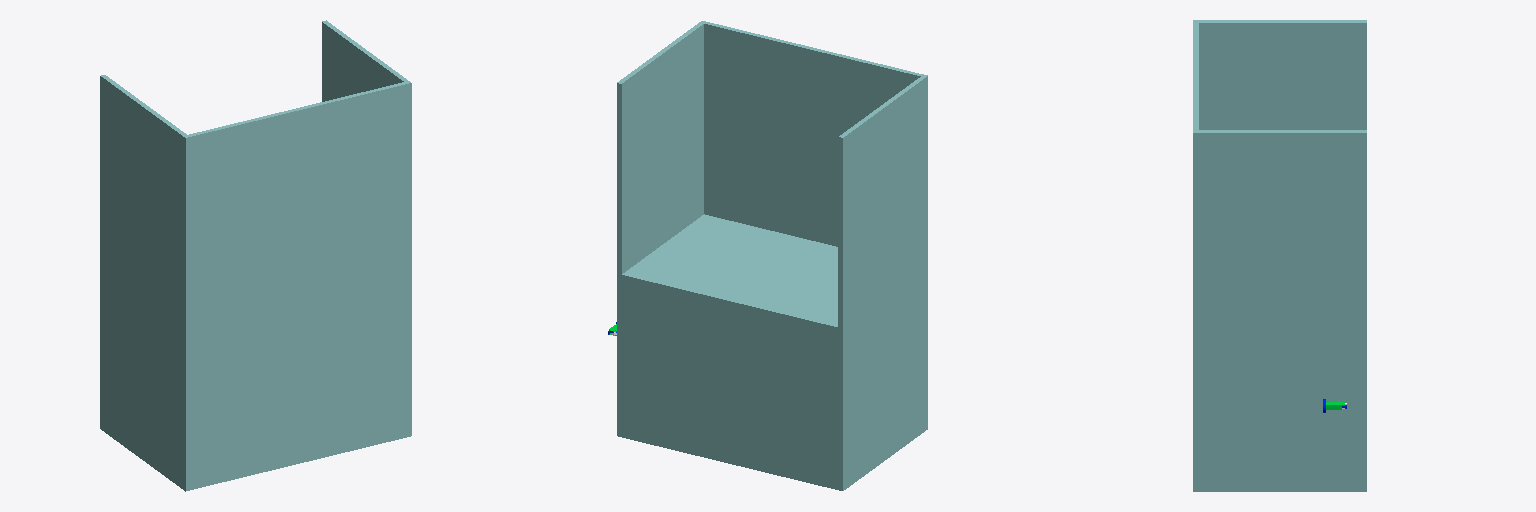
--- What the picture shows (computed from the rendered views, not written in the file) ---
Views: 3 orthographic renders of the robot side by side, from view 1: azimuth 30°, elevation 25°; view 2: azimuth 150°, elevation 25°; view 3: azimuth 270°, elevation 25°.
Robot: ur5e_workcell — 24 links, 23 joints (6 revolute, 17 fixed); root link world; default pose: every joint at zero.
Visible links, largest first — view 1: robotcell_base, shield_rear, shield_left, shield_right; view 2: robotcell_base, shield_rear, shield_left, shield_right; view 3: shield_right, robotcell_base, shield_left, shield_rear.
Link boxes in pixels (x1,y1,x2,y2): robotcell_base: [100, 267, 411, 491]; shield_rear: [183, 81, 411, 328]; shield_left: [100, 75, 189, 327]; shield_right: [322, 20, 411, 253]; robotcell_base: [617, 214, 927, 490]; shield_rear: [700, 21, 927, 267]; shield_left: [838, 75, 927, 328]; shield_right: [617, 21, 705, 274]; shield_right: [1193, 130, 1366, 325]; robotcell_base: [1193, 326, 1366, 491]; shield_left: [1193, 20, 1366, 129]; shield_rear: [1193, 20, 1198, 325].
Size in the robot's own frame: 1.57 by 0.94 by 2.15 metres.
3 mesh visuals loaded from 10 distinct referenced files (3 binary STL); not drawn: 7 (reference not matched to a file when rendering).

URDF robot description (ur5e_workcell):
<?xml version="1.0" ?>
<!-- =================================================================================== -->
<!-- |    This document was autogenerated by xacro from workcell.urdf.xacro            | -->
<!-- |    EDITING THIS FILE BY HAND IS NOT RECOMMENDED                                 | -->
<!-- =================================================================================== -->
<robot name="ur5e_workcell">
  <!-- Specify some standard inertial calculations https://en.wikipedia.org/wiki/List_of_moments_of_inertia -->
  <!-- These make use of xacro's mathematical functionality -->
  <material name="gray">
    <color rgba="0.6 0.8 0.8 1"/>
  </material>
  <link name="robotcell_link">
    <origin rpy="0 0 0" xyz="0 0 0"/>
  </link>
  <link name="shield_front">
    <collision>
      <origin rpy="0 0 0" xyz="0 0 0"/>
      <geometry>
        <box size="1.44 0.03 1.16"/>
      </geometry>
      <material name="gray"/>
    </collision>
    <inertial>
      <origin rpy="0 0 0" xyz="0 0 0"/>
      <mass value="5"/>
      <inertia ixx="0.5610416666666665" ixy="0.0" ixz="0.0" iyy="1.4246666666666665" iyz="0.0" izz="0.8643749999999999"/>
    </inertial>
  </link>
  <link name="shield_rear">
    <visual>
      <origin rpy="0 0 0" xyz="0 0 0"/>
      <geometry>
        <box size="1.44 0.03 1.16"/>
      </geometry>
      <material name="gray"/>
    </visual>
    <collision>
      <origin rpy="0 0 0 " xyz="0 0 0"/>
      <geometry>
        <box size="1.44 0.03 1.16"/>
      </geometry>
      <material name="gray"/>
    </collision>
    <inertial>
      <origin rpy="0 0 0" xyz="0 0 0"/>
      <mass value="5"/>
      <inertia ixx="0.5610416666666665" ixy="0.0" ixz="0.0" iyy="1.4246666666666665" iyz="0.0" izz="0.8643749999999999"/>
    </inertial>
  </link>
  <link name="shield_left">
    <visual>
      <origin rpy="0 0 0" xyz="0 0 0"/>
      <geometry>
        <box size="0.03 0.94 1.16"/>
      </geometry>
      <material name="gray"/>
    </visual>
    <collision>
      <origin rpy="0 0 0" xyz="0 0 0"/>
      <geometry>
        <box size="0.03 0.94 1.16"/>
      </geometry>
      <material name="gray"/>
    </collision>
    <inertial>
      <origin rpy="0 0 0" xyz="0 0 0"/>
      <mass value="5"/>
      <inertia ixx="0.9288333333333331" ixy="0.0" ixz="0.0" iyy="0.5610416666666665" iyz="0.0" izz="0.3685416666666666"/>
    </inertial>
  </link>
  <link name="shield_right">
    <visual>
      <origin rpy="0 0 0" xyz="0 0 0"/>
      <geometry>
        <box size="0.03 0.94 1.16"/>
      </geometry>
      <material name="gray"/>
    </visual>
    <collision>
      <origin rpy="0 0 0" xyz="0 0 0"/>
      <geometry>
        <box size="0.03 0.94 1.16"/>
      </geometry>
      <material name="gray"/>
    </collision>
    <inertial>
      <origin rpy="0 0 0" xyz="0 0 0"/>
      <mass value="5"/>
      <inertia ixx="0.9288333333333331" ixy="0.0" ixz="0.0" iyy="0.5610416666666665" iyz="0.0" izz="0.3685416666666666"/>
    </inertial>
  </link>
  <link name="robotcell_base">
    <visual>
      <origin rpy="0 0 0" xyz="0 0 0.495"/>
      <geometry>
        <box size="1.44 0.94 0.99"/>
      </geometry>
      <material name="gray"/>
    </visual>
    <collision>
      <origin rpy="0 0 0" xyz="0 0 0.495"/>
      <geometry>
        <box size="1.44 0.94 0.99"/>
      </geometry>
      <material name="gray"/>
    </collision>
    <inertial>
      <origin rpy="0 0 0" xyz="0 0 0"/>
      <mass value="70"/>
      <inertia ixx="10.871583333333332" ixy="0.0" ixz="0.0" iyy="17.81325" iyz="0.0" izz="17.25033333333333"/>
    </inertial>
  </link>
  <joint name="robotcell_joint_to_front" type="fixed">
    <parent link="robotcell_link"/>
    <child link="shield_front"/>
    <origin rpy="0 0 0" xyz="0 0.45499999999999996 1.5699999999999998"/>
  </joint>
  <joint name="robotcell_joint_to_rear" type="fixed">
    <parent link="robotcell_link"/>
    <child link="shield_rear"/>
    <origin rpy="0 0 0" xyz="0 -0.45499999999999996 1.5699999999999998"/>
  </joint>
  <joint name="robotcell_joint_to_left" type="fixed">
    <parent link="robotcell_link"/>
    <child link="shield_left"/>
    <origin rpy="0 0 0" xyz="-0.705 0 1.5699999999999998"/>
  </joint>
  <joint name="robotcell_joint_to_right" type="fixed">
    <parent link="robotcell_link"/>
    <child link="shield_right"/>
    <origin rpy="0 0 0" xyz="0.705 0 1.5699999999999998"/>
  </joint>
  <joint name="robotcell_joint_to_robotcell_base" type="fixed">
    <parent link="robotcell_link"/>
    <child link="robotcell_base"/>
    <origin rpy="0 0 0" xyz="0 0 0"/>
  </joint>
  <!--
    Base UR robot series xacro macro.

    NOTE this is NOT a URDF. It cannot directly be loaded by consumers
    expecting a flattened '.urdf' file. See the top-level '.xacro' for that
    (but note that .xacro must still be processed by the xacro command).

    This file models the base kinematic chain of a UR robot, which then gets
    parameterised by various configuration files to convert it into a UR3(e),
    UR5(e), UR10(e) or UR16e.

    NOTE the default kinematic parameters (i.e., link lengths, frame locations,
    offsets, etc) do not correspond to any particular robot. They are defaults
    only. There WILL be non-zero offsets between the Forward Kinematics results
    in TF (i.e., robot_state_publisher) and the values reported by the Teach
    Pendant.

    For accurate (and robot-specific) transforms, the 'kinematics_parameters_file'
    parameter MUST point to a .yaml file containing the appropriate values for
    the targeted robot.

    If using the UniversalRobots/Universal_Robots_ROS_Driver, follow the steps
    described in the readme of that repository to extract the kinematic
    calibration from the controller and generate the required .yaml file.

    Main author of the migration to yaml configs Ludovic Delval.

    Contributors to previous versions (in no particular order)

     - Denis Stogl
     - Lovro Ivanov
     - Felix Messmer
     - Kelsey Hawkins
     - Wim Meeussen
     - Shaun Edwards
     - Nadia Hammoudeh Garcia
     - Dave Hershberger
     - G. vd. Hoorn
     - Philip Long
     - Dave Coleman
     - Miguel Prada
     - Mathias Luedtke
     - Marcel Schnirring
     - Felix von Drigalski
     - Felix Exner
     - Jimmy Da Silva
     - Ajit Krisshna N L
     - Muhammad Asif Rana
  -->
  <!--
    NOTE the macro defined in this file is NOT part of the public API of this
          package. Users CANNOT rely on this file being available, or stored in
          this location. Nor can they rely on the existence of the macro.
  -->
  <!-- Specify some standard inertial calculations https://en.wikipedia.org/wiki/List_of_moments_of_inertia -->
  <!-- These make use of xacro's mathematical functionality -->
  <material name="blue">
    <color rgba="0 0.2 1 1"/>
  </material>
  <material name="green">
    <color rgba="0 0.9 0.3 1"/>
  </material>
  <material name="white">
    <color rgba="1 1 1 1"/>
  </material>
  <!--Base plate-->
  <link name="shunk_egp50_base_link">
    <visual>
      <geometry>
        <cylinder length="0.015" radius="0.0375"/>
      </geometry>
      <material name="blue"/>
      <origin rpy="0 0 0" xyz="0 0 0.0075"/>
    </visual>
    <collision>
      <geometry>
        <cylinder length="0.015" radius="0.0375"/>
      </geometry>
      <origin rpy="0 0 0" xyz="0 0 0.0075"/>
    </collision>
    <inertial>
      <origin rpy="0 0 0" xyz="0 0 0.0075"/>
      <mass value="0.2"/>
      <inertia ixx="7.406249999999999e-05" ixy="0.0" ixz="0.0" iyy="7.406249999999999e-05" iyz="0.0" izz="0.000140625"/>
    </inertial>
  </link>
  <!--Main gripper-->
  <link name="shunk_egp50_body_link">
    <visual>
      <geometry>
        <mesh filename="package://workcell_description/meshes/Gripper.stl" scale="0.001 0.001 0.001"/>
      </geometry>
      <origin rpy="1.5707963267948966 0 0" xyz="-0.025 0.015 -0.0433"/>
      <material name="green"/>
    </visual>
    <collision>
      <geometry>
        <mesh filename="package://workcell_description/meshes/Gripper.stl" scale="0.001 0.001 0.001"/>
      </geometry>
      <origin rpy="1.5707963267948966 0 0" xyz="-0.025 0.015 -0.0433"/>
    </collision>
    <inertial>
      <origin rpy="1.5707963267948966 0 0" xyz="-0.025 0.015 -0.0433"/>
      <mass value="0.5"/>
      <inertia ixx="0.00034998166666666666" ixy="0.0" ixz="0.0" iyy="0.00041664833333333336" iyz="0.0" izz="0.00014166666666666668"/>
    </inertial>
  </link>
  <!--Pincer block 1-->
  <link name="shunk_egp50_pincer_1_link">
    <visual>
      <geometry>
        <mesh filename="package://workcell_description/meshes/Pincer_1.stl" scale="0.001 0.001 0.001"/>
      </geometry>
      <origin rpy="1.5707963267948966 0 0" xyz="-0.025 0.009 -0.0936"/>
      <material name="white"/>
    </visual>
    <collision>
      <geometry>
        <mesh filename="package://workcell_description/meshes/Pincer_1.stl" scale="0.001 0.001 0.001"/>
      </geometry>
      <origin rpy="1.5707963267948966 0 0" xyz="-0.025 0.009 -0.0936"/>
    </collision>
    <inertial>
      <origin rpy="1.5707963267948966 0 0" xyz="-0.025 0.009 -0.0936"/>
      <mass value="0.1"/>
      <inertia ixx="4.333333333333333e-06" ixy="0.0" ixz="0.0" iyy="2.246666666666667e-05" iyz="0.0" izz="2.3533333333333337e-05"/>
    </inertial>
  </link>
  <!--Pincer block 2-->
  <link name="shunk_egp50_pincer_2_link">
    <visual>
      <geometry>
        <mesh filename="package://workcell_description/meshes/Pincer_2.stl" scale="0.001 0.001 0.001"/>
      </geometry>
      <origin rpy="1.5707963267948966 0 0" xyz="-0.025 0.009 -0.0936"/>
      <material name="blue"/>
    </visual>
    <collision>
      <geometry>
        <mesh filename="package://workcell_description/meshes/Pincer_2.stl" scale="0.001 0.001 0.001"/>
      </geometry>
      <origin rpy="1.5707963267948966 0 0" xyz="-0.025 0.009 -0.0936"/>
    </collision>
    <inertial>
      <origin rpy="1.5707963267948966 0 0" xyz="-0.025 0.009 -0.0936"/>
      <mass value="0.1"/>
      <inertia ixx="4.333333333333333e-06" ixy="0.0" ixz="0.0" iyy="2.246666666666667e-05" iyz="0.0" izz="2.3533333333333337e-05"/>
    </inertial>
  </link>
  <!-- Virtual link for visualizytion and planning-->
  <link name="tool_tip"/>
  <!-- Joints-->
  <joint name="shunk_egp50_body_joint" type="fixed">
    <parent link="shunk_egp50_base_link"/>
    <child link="shunk_egp50_body_link"/>
    <origin rpy="0.0 0.0 0.0" xyz="0.0 0.0 0.0583"/>
  </joint>
  <joint name="shunk_egp50_pincer_1_joint" type="fixed">
    <parent link="shunk_egp50_body_link"/>
    <child link="shunk_egp50_pincer_1_link"/>
    <origin rpy="0.0 0.0 0.0" xyz="0.0 0.0 0.0503"/>
    <!-- the motion of the pincer is along the X axis -->
    <axis xyz="1 0 0"/>
    <!-- the motion of the pincer is limited to the half of the gripper body length -->
    <limit effort="100" lower="-0.003125" upper="0.003125" velocity="100"/>
  </joint>
  <joint name="shunk_egp50_pincer_2_joint" type="fixed">
    <parent link="shunk_egp50_body_link"/>
    <child link="shunk_egp50_pincer_2_link"/>
    <origin rpy="0.0 0.0 0.0" xyz="0.0 0.002 0.0503"/>
    <!-- the motion of the pincer is along the X axis -->
    <axis xyz="1 0 0"/>
    <!-- the motion of the pincer is limited to the half of the gripper body length -->
    <limit effort="100" lower="0.003125" upper="-0.003125" velocity="100"/>
  </joint>
  <joint name="shunk_egp50_tip_joint" type="fixed">
    <parent link="shunk_egp50_base_link"/>
    <child link="tool_tip"/>
    <origin rpy="0.0 0.0 0.0" xyz="0 0 0.01044"/>
  </joint>
  <ros2_control name="ur5e" type="system">
    <hardware>
      <plugin>ur_robot_driver/URPositionHardwareInterface</plugin>
      <param name="robot_ip">0.0.0.0</param>
      <param name="script_filename"></param>
      <param name="output_recipe_filename"></param>
      <param name="input_recipe_filename"></param>
      <param name="headless_mode">False</param>
      <param name="reverse_port">50001</param>
      <param name="script_sender_port">50002</param>
      <param name="tf_prefix">&quot;&quot;</param>
      <param name="non_blocking_read">0</param>
      <param name="servoj_gain">2000</param>
      <param name="servoj_lookahead_time">0.03</param>
      <param name="use_tool_communication">False</param>
      <param name="kinematics/hash">calib_12788084448423163542</param>
      <param name="tool_voltage">24</param>
      <param name="tool_parity">0</param>
      <param name="tool_baud_rate">115200</param>
      <param name="tool_stop_bits">1</param>
      <param name="tool_rx_idle_chars">1.5</param>
      <param name="tool_tx_idle_chars">3.5</param>
      <param name="tool_device_name">/tmp/ttyUR</param>
      <param name="tool_tcp_port">54321</param>
    </hardware>
    <joint name="shoulder_pan_joint">
      <command_interface name="position">
        <param name="min">{-2*pi}</param>
        <param name="max">{2*pi}</param>
      </command_interface>
      <command_interface name="velocity">
        <param name="min">-3.15</param>
        <param name="max">3.15</param>
      </command_interface>
      <state_interface name="position">
        <!-- initial position for the FakeSystem and simulation -->
        <param name="initial_value">0.0</param>
      </state_interface>
      <state_interface name="velocity"/>
      <state_interface name="effort"/>
    </joint>
    <joint name="shoulder_lift_joint">
      <command_interface name="position">
        <param name="min">{-2*pi}</param>
        <param name="max">{2*pi}</param>
      </command_interface>
      <command_interface name="velocity">
        <param name="min">-3.15</param>
        <param name="max">3.15</param>
      </command_interface>
      <state_interface name="position">
        <!-- initial position for the FakeSystem and simulation -->
        <param name="initial_value">-1.57</param>
      </state_interface>
      <state_interface name="velocity"/>
      <state_interface name="effort"/>
    </joint>
    <joint name="elbow_joint">
      <command_interface name="position">
        <param name="min">{-pi}</param>
        <param name="max">{pi}</param>
      </command_interface>
      <command_interface name="velocity">
        <param name="min">-3.15</param>
        <param name="max">3.15</param>
      </command_interface>
      <state_interface name="position">
        <!-- initial position for the FakeSystem and simulation -->
        <param name="initial_value">0.0</param>
      </state_interface>
      <state_interface name="velocity"/>
      <state_interface name="effort"/>
    </joint>
    <joint name="wrist_1_joint">
      <command_interface name="position">
        <param name="min">{-2*pi}</param>
        <param name="max">{2*pi}</param>
      </command_interface>
      <command_interface name="velocity">
        <param name="min">-3.2</param>
        <param name="max">3.2</param>
      </command_interface>
      <state_interface name="position">
        <!-- initial position for the FakeSystem and simulation -->
        <param name="initial_value">-1.57</param>
      </state_interface>
      <state_interface name="velocity"/>
      <state_interface name="effort"/>
    </joint>
    <joint name="wrist_2_joint">
      <command_interface name="position">
        <param name="min">{-2*pi}</param>
        <param name="max">{2*pi}</param>
      </command_interface>
      <command_interface name="velocity">
        <param name="min">-3.2</param>
        <param name="max">3.2</param>
      </command_interface>
      <state_interface name="position">
        <!-- initial position for the FakeSystem and simulation -->
        <param name="initial_value">0.0</param>
      </state_interface>
      <state_interface name="velocity"/>
      <state_interface name="effort"/>
    </joint>
    <joint name="wrist_3_joint">
      <command_interface name="position">
        <param name="min">{-2*pi}</param>
        <param name="max">{2*pi}</param>
      </command_interface>
      <command_interface name="velocity">
        <param name="min">-3.2</param>
        <param name="max">3.2</param>
      </command_interface>
      <state_interface name="position">
        <!-- initial position for the FakeSystem and simulation -->
        <param name="initial_value">0.0</param>
      </state_interface>
      <state_interface name="velocity"/>
      <state_interface name="effort"/>
    </joint>
    <sensor name="tcp_fts_sensor">
      <state_interface name="force.x"/>
      <state_interface name="force.y"/>
      <state_interface name="force.z"/>
      <state_interface name="torque.x"/>
      <state_interface name="torque.y"/>
      <state_interface name="torque.z"/>
    </sensor>
    <!-- NOTE The following are joints used only for testing with fake hardware and will change in the future -->
    <gpio name="speed_scaling">
      <state_interface name="speed_scaling_factor"/>
      <param name="initial_speed_scaling_factor">1</param>
      <command_interface name="target_speed_fraction_cmd"/>
      <command_interface name="target_speed_fraction_async_success"/>
    </gpio>
    <gpio name="gpio">
      <command_interface name="standard_digital_output_cmd_0"/>
      <command_interface name="standard_digital_output_cmd_1"/>
      <command_interface name="standard_digital_output_cmd_2"/>
      <command_interface name="standard_digital_output_cmd_3"/>
      <command_interface name="standard_digital_output_cmd_4"/>
      <command_interface name="standard_digital_output_cmd_5"/>
      <command_interface name="standard_digital_output_cmd_6"/>
      <command_interface name="standard_digital_output_cmd_7"/>
      <command_interface name="standard_digital_output_cmd_8"/>
      <command_interface name="standard_digital_output_cmd_9"/>
      <command_interface name="standard_digital_output_cmd_10"/>
      <command_interface name="standard_digital_output_cmd_11"/>
      <command_interface name="standard_digital_output_cmd_12"/>
      <command_interface name="standard_digital_output_cmd_13"/>
      <command_interface name="standard_digital_output_cmd_14"/>
      <command_interface name="standard_digital_output_cmd_15"/>
      <command_interface name="standard_digital_output_cmd_16"/>
      <command_interface name="standard_digital_output_cmd_17"/>
      <command_interface name="standard_analog_output_cmd_0"/>
      <command_interface name="standard_analog_output_cmd_1"/>
      <command_interface name="io_async_success"/>
      <state_interface name="digital_output_0"/>
      <state_interface name="digital_output_1"/>
      <state_interface name="digital_output_2"/>
      <state_interface name="digital_output_3"/>
      <state_interface name="digital_output_4"/>
      <state_interface name="digital_output_5"/>
      <state_interface name="digital_output_6"/>
      <state_interface name="digital_output_7"/>
      <state_interface name="digital_output_8"/>
      <state_interface name="digital_output_9"/>
      <state_interface name="digital_output_10"/>
      <state_interface name="digital_output_11"/>
      <state_interface name="digital_output_12"/>
      <state_interface name="digital_output_13"/>
      <state_interface name="digital_output_14"/>
      <state_interface name="digital_output_15"/>
      <state_interface name="digital_output_16"/>
      <state_interface name="digital_output_17"/>
      <state_interface name="digital_input_0"/>
      <state_interface name="digital_input_1"/>
      <state_interface name="digital_input_2"/>
      <state_interface name="digital_input_3"/>
      <state_interface name="digital_input_4"/>
      <state_interface name="digital_input_5"/>
      <state_interface name="digital_input_6"/>
      <state_interface name="digital_input_7"/>
      <state_interface name="digital_input_8"/>
      <state_interface name="digital_input_9"/>
      <state_interface name="digital_input_10"/>
      <state_interface name="digital_input_11"/>
      <state_interface name="digital_input_12"/>
      <state_interface name="digital_input_13"/>
      <state_interface name="digital_input_14"/>
      <state_interface name="digital_input_15"/>
      <state_interface name="digital_input_16"/>
      <state_interface name="digital_input_17"/>
      <state_interface name="standard_analog_output_0"/>
      <state_interface name="standard_analog_output_1"/>
      <state_interface name="standard_analog_input_0"/>
      <state_interface name="standard_analog_input_1"/>
      <state_interface name="analog_io_type_0"/>
      <state_interface name="analog_io_type_1"/>
      <state_interface name="analog_io_type_2"/>
      <state_interface name="analog_io_type_3"/>
      <state_interface name="tool_mode"/>
      <state_interface name="tool_output_voltage"/>
      <state_interface name="tool_output_current"/>
      <state_interface name="tool_temperature"/>
      <state_interface name="tool_analog_input_0"/>
      <state_interface name="tool_analog_input_1"/>
      <state_interface name="tool_analog_input_type_0"/>
      <state_interface name="tool_analog_input_type_1"/>
      <state_interface name="robot_mode"/>
      <state_interface name="robot_status_bit_0"/>
      <state_interface name="robot_status_bit_1"/>
      <state_interface name="robot_status_bit_2"/>
      <state_interface name="robot_status_bit_3"/>
      <state_interface name="safety_mode"/>
      <state_interface name="safety_status_bit_0"/>
      <state_interface name="safety_status_bit_1"/>
      <state_interface name="safety_status_bit_2"/>
      <state_interface name="safety_status_bit_3"/>
      <state_interface name="safety_status_bit_4"/>
      <state_interface name="safety_status_bit_5"/>
      <state_interface name="safety_status_bit_6"/>
      <state_interface name="safety_status_bit_7"/>
      <state_interface name="safety_status_bit_8"/>
      <state_interface name="safety_status_bit_9"/>
      <state_interface name="safety_status_bit_10"/>
      <state_interface name="program_running"/>
    </gpio>
    <gpio name="payload">
      <command_interface name="mass"/>
      <command_interface name="cog.x"/>
      <command_interface name="cog.y"/>
      <command_interface name="cog.z"/>
      <command_interface name="payload_async_success"/>
    </gpio>
    <gpio name="resend_robot_program">
      <command_interface name="resend_robot_program_cmd"/>
      <command_interface name="resend_robot_program_async_success"/>
    </gpio>
    <gpio name="system_interface">
      <state_interface name="initialized"/>
    </gpio>
  </ros2_control>
  <!-- Add URDF transmission elements (for ros_control) -->
  <!--<xacro:ur_arm_transmission prefix="${prefix}" hw_interface="${transmission_hw_interface}" />-->
  <!-- Placeholder for ros2_control transmission which don't yet exist -->
  <!-- links -  main serial chain -->
  <link name="base_link"/>
  <link name="base_link_inertia">
    <visual>
      <origin rpy="0 0 3.141592653589793" xyz="0 0 0"/>
      <geometry>
        <mesh filename="package://ur_description/meshes/ur5e/visual/base.dae"/>
      </geometry>
    </visual>
    <collision>
      <origin rpy="0 0 3.141592653589793" xyz="0 0 0"/>
      <geometry>
        <mesh filename="package://ur_description/meshes/ur5e/collision/base.stl"/>
      </geometry>
    </collision>
    <inertial>
      <mass value="4.0"/>
      <origin rpy="0 0 0" xyz="0 0 0"/>
      <inertia ixx="0.00443333156" ixy="0.0" ixz="0.0" iyy="0.00443333156" iyz="0.0" izz="0.0072"/>
    </inertial>
  </link>
  <link name="shoulder_link">
    <visual>
      <origin rpy="0 0 3.141592653589793" xyz="0 0 0"/>
      <geometry>
        <mesh filename="package://ur_description/meshes/ur5e/visual/shoulder.dae"/>
      </geometry>
    </visual>
    <collision>
      <origin rpy="0 0 3.141592653589793" xyz="0 0 0"/>
      <geometry>
        <mesh filename="package://ur_description/meshes/ur5e/collision/shoulder.stl"/>
      </geometry>
    </collision>
    <inertial>
      <mass value="3.7"/>
      <origin rpy="0 0 0" xyz="0 0 0"/>
      <inertia ixx="0.010267495893" ixy="0.0" ixz="0.0" iyy="0.010267495893" iyz="0.0" izz="0.00666"/>
    </inertial>
  </link>
  <link name="upper_arm_link">
    <visual>
      <origin rpy="1.5707963267948966 0 -1.5707963267948966" xyz="0 0 0.138"/>
      <geometry>
        <mesh filename="package://ur_description/meshes/ur5e/visual/upperarm.dae"/>
      </geometry>
    </visual>
    <collision>
      <origin rpy="1.5707963267948966 0 -1.5707963267948966" xyz="0 0 0.138"/>
      <geometry>
        <mesh filename="package://ur_description/meshes/ur5e/collision/upperarm.stl"/>
      </geometry>
    </collision>
    <inertial>
      <mass value="8.393"/>
      <origin rpy="0 1.5707963267948966 0" xyz="-0.2125 0.0 0.138"/>
      <inertia ixx="0.1338857818623325" ixy="0.0" ixz="0.0" iyy="0.1338857818623325" iyz="0.0" izz="0.0151074"/>
    </inertial>
  </link>
  <link name="forearm_link">
    <visual>
      <origin rpy="1.5707963267948966 0 -1.5707963267948966" xyz="0 0 0.007"/>
      <geometry>
        <mesh filename="package://ur_description/meshes/ur5e/visual/forearm.dae"/>
      </geometry>
    </visual>
    <collision>
      <origin rpy="1.5707963267948966 0 -1.5707963267948966" xyz="0 0 0.007"/>
      <geometry>
        <mesh filename="package://ur_description/meshes/ur5e/collision/forearm.stl"/>
      </geometry>
    </collision>
    <inertial>
      <mass value="2.275"/>
      <origin rpy="0 1.5707963267948966 0" xyz="-0.1961 0.0 0.007"/>
      <inertia ixx="0.031209355099586295" ixy="0.0" ixz="0.0" iyy="0.031209355099586295" iyz="0.0" izz="0.004095"/>
    </inertial>
  </link>
  <link name="wrist_1_link">
    <visual>
      <origin rpy="1.5707963267948966 0 0" xyz="0 0 -0.127"/>
      <geometry>
        <mesh filename="package://ur_description/meshes/ur5e/visual/wrist1.dae"/>
      </geometry>
    </visual>
    <collision>
      <origin rpy="1.5707963267948966 0 0" xyz="0 0 -0.127"/>
      <geometry>
        <mesh filename="package://ur_description/meshes/ur5e/collision/wrist1.stl"/>
      </geometry>
    </collision>
    <inertial>
      <mass value="1.219"/>
      <origin rpy="0 0 0" xyz="0 0 0"/>
      <inertia ixx="0.0025598989760400002" ixy="0.0" ixz="0.0" iyy="0.0025598989760400002" iyz="0.0" izz="0.0021942"/>
    </inertial>
  </link>
  <link name="wrist_2_link">
    <visual>
      <origin rpy="0 0 0" xyz="0 0 -0.0997"/>
      <geometry>
        <mesh filename="package://ur_description/meshes/ur5e/visual/wrist2.dae"/>
      </geometry>
    </visual>
    <collision>
      <origin rpy="0 0 0" xyz="0 0 -0.0997"/>
      <geometry>
        <mesh filename="package://ur_description/meshes/ur5e/collision/wrist2.stl"/>
      </geometry>
    </collision>
    <inertial>
      <mass value="1.219"/>
      <origin rpy="0 0 0" xyz="0 0 0"/>
      <inertia ixx="0.0025598989760400002" ixy="0.0" ixz="0.0" iyy="0.0025598989760400002" iyz="0.0" izz="0.0021942"/>
    </inertial>
  </link>
  <link name="wrist_3_link">
    <visual>
      <origin rpy="1.5707963267948966 0 0" xyz="0 0 -0.0989"/>
      <geometry>
        <mesh filename="package://ur_description/meshes/ur5e/visual/wrist3.dae"/>
      </geometry>
    </visual>
    <collision>
      <origin rpy="1.5707963267948966 0 0" xyz="0 0 -0.0989"/>
      <geometry>
        <mesh filename="package://ur_description/meshes/ur5e/collision/wrist3.stl"/>
      </geometry>
    </collision>
    <inertial>
      <mass value="0.1879"/>
      <origin rpy="0 0 0" xyz="0.0 0.0 -0.0229"/>
      <inertia ixx="9.890410052167731e-05" ixy="0.0" ixz="0.0" iyy="9.890410052167731e-05" iyz="0.0" izz="0.0001321171875"/>
    </inertial>
  </link>
  <!-- base_joint fixes base_link to the environment -->
  <joint name="base_joint" type="fixed">
    <origin rpy="0 0 0" xyz="0 0 0.495"/>
    <parent link="robotcell_base"/>
    <child link="base_link"/>
  </joint>
  <!-- joints - main serial chain -->
  <joint name="base_link-base_link_inertia" type="fixed">
    <parent link="base_link"/>
    <child link="base_link_inertia"/>
    <!-- 'base_link' is REP-103 aligned (so X+ forward), while the internal
           frames of the robot/controller have X+ pointing backwards.
           Use the joint between 'base_link' and 'base_link_inertia' (a dummy
           link/frame) to introduce the necessary rotation over Z (of pi rad).
      -->
    <origin rpy="0 0 3.141592653589793" xyz="0 0 0"/>
  </joint>
  <joint name="shoulder_pan_joint" type="revolute">
    <parent link="base_link_inertia"/>
    <child link="shoulder_link"/>
    <origin rpy="0 0 0" xyz="0 0 0.1625"/>
    <axis xyz="0 0 1"/>
    <limit effort="150.0" lower="-6.283185307179586" upper="6.283185307179586" velocity="3.141592653589793"/>
    <dynamics damping="0" friction="0"/>
  </joint>
  <joint name="shoulder_lift_joint" type="revolute">
    <parent link="shoulder_link"/>
    <child link="upper_arm_link"/>
    <origin rpy="1.570796327 0 0" xyz="0 0 0"/>
    <axis xyz="0 0 1"/>
    <limit effort="150.0" lower="-6.283185307179586" upper="6.283185307179586" velocity="3.141592653589793"/>
    <dynamics damping="0" friction="0"/>
  </joint>
  <joint name="elbow_joint" type="revolute">
    <parent link="upper_arm_link"/>
    <child link="forearm_link"/>
    <origin rpy="0 0 0" xyz="-0.425 0 0"/>
    <axis xyz="0 0 1"/>
    <limit effort="150.0" lower="-3.141592653589793" upper="3.141592653589793" velocity="3.141592653589793"/>
    <dynamics damping="0" friction="0"/>
  </joint>
  <joint name="wrist_1_joint" type="revolute">
    <parent link="forearm_link"/>
    <child link="wrist_1_link"/>
    <origin rpy="0 0 0" xyz="-0.3922 0 0.1333"/>
    <axis xyz="0 0 1"/>
    <limit effort="28.0" lower="-6.283185307179586" upper="6.283185307179586" velocity="3.141592653589793"/>
    <dynamics damping="0" friction="0"/>
  </joint>
  <joint name="wrist_2_joint" type="revolute">
    <parent link="wrist_1_link"/>
    <child link="wrist_2_link"/>
    <origin rpy="1.570796327 0 0" xyz="0 -0.0997 -2.044881182297852e-11"/>
    <axis xyz="0 0 1"/>
    <limit effort="28.0" lower="-6.283185307179586" upper="6.283185307179586" velocity="3.141592653589793"/>
    <dynamics damping="0" friction="0"/>
  </joint>
  <joint name="wrist_3_joint" type="revolute">
    <parent link="wrist_2_link"/>
    <child link="wrist_3_link"/>
    <origin rpy="1.570796326589793 3.141592653589793 3.141592653589793" xyz="0 0.0996 -2.042830148012698e-11"/>
    <axis xyz="0 0 1"/>
    <limit effort="28.0" lower="-6.283185307179586" upper="6.283185307179586" velocity="3.141592653589793"/>
    <dynamics damping="0" friction="0"/>
  </joint>
  <link name="ft_frame"/>
  <joint name="wrist_3_link-ft_frame" type="fixed">
    <parent link="wrist_3_link"/>
    <child link="ft_frame"/>
    <origin rpy="3.141592653589793 0 0" xyz="0 0 0"/>
  </joint>
  <!-- ROS-Industrial 'base' frame - base_link to UR 'Base' Coordinates transform -->
  <link name="base"/>
  <joint name="base_link-base_fixed_joint" type="fixed">
    <!-- Note the rotation over Z of pi radians - as base_link is REP-103
           aligned (i.e., has X+ forward, Y+ left and Z+ up), this is needed
           to correctly align 'base' with the 'Base' coordinate system of
           the UR controller.
      -->
    <origin rpy="0 0 3.141592653589793" xyz="0 0 0"/>
    <parent link="base_link"/>
    <child link="base"/>
  </joint>
  <!-- ROS-Industrial 'flange' frame - attachment point for EEF models -->
  <link name="flange"/>
  <joint name="wrist_3-flange" type="fixed">
    <parent link="wrist_3_link"/>
    <child link="flange"/>
    <origin rpy="0 -1.5707963267948966 -1.5707963267948966" xyz="0 0 0"/>
  </joint>
  <!-- ROS-Industrial 'tool0' frame - all-zeros tool frame -->
  <link name="tool0"/>
  <joint name="flange-tool0" type="fixed">
    <!-- default toolframe - X+ left, Y+ up, Z+ front -->
    <origin rpy="1.5707963267948966 0 1.5707963267948966" xyz="0 0 0"/>
    <parent link="flange"/>
    <child link="tool0"/>
  </joint>
  <link name="world"/>
  <joint name="world_to_robot_cell_joint" type="fixed">
    <parent link="world"/>
    <child link="robotcell_link"/>
    <origin rpy="0 0 0" xyz="0 0 0"/>
  </joint>
  <joint name="robot_to_gripper_joint" type="fixed">
    <parent link="tool0"/>
    <child link="shunk_egp50_base_link"/>
    <origin rpy="0.0 0.0 0.0" xyz="0.0 0.0 0.0"/>
  </joint>
</robot>
